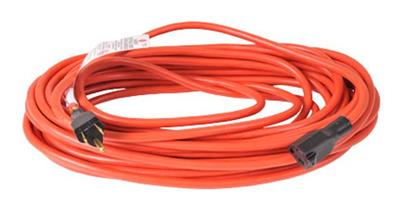Nonrec_Tangler: (13, 9, 386, 187)
